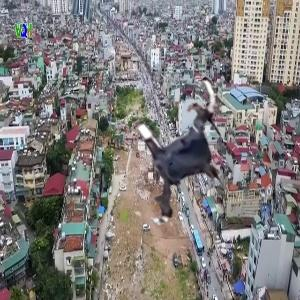drone: (108, 79, 259, 230)
